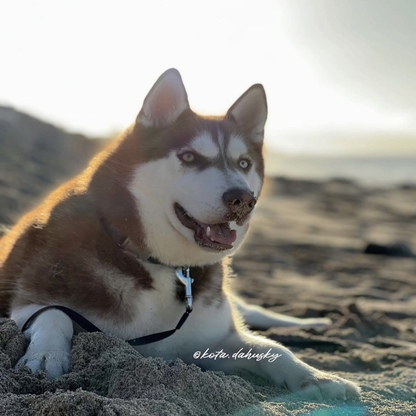husky: (1, 65, 366, 406)
